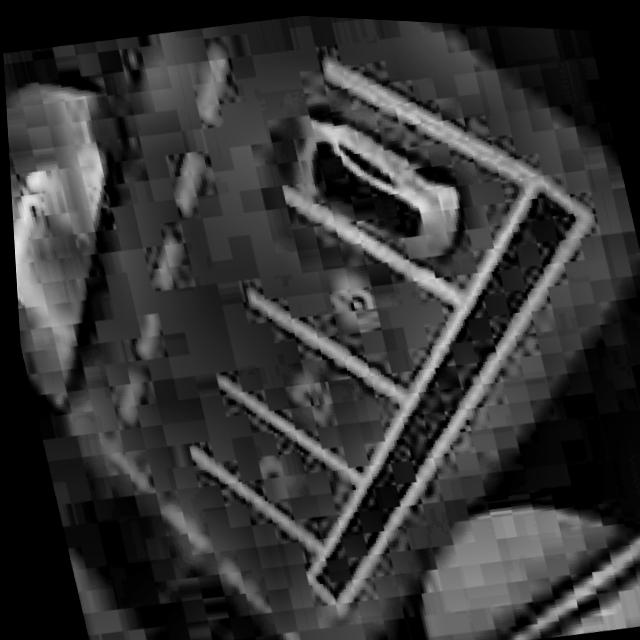car: (254, 67, 487, 289)
